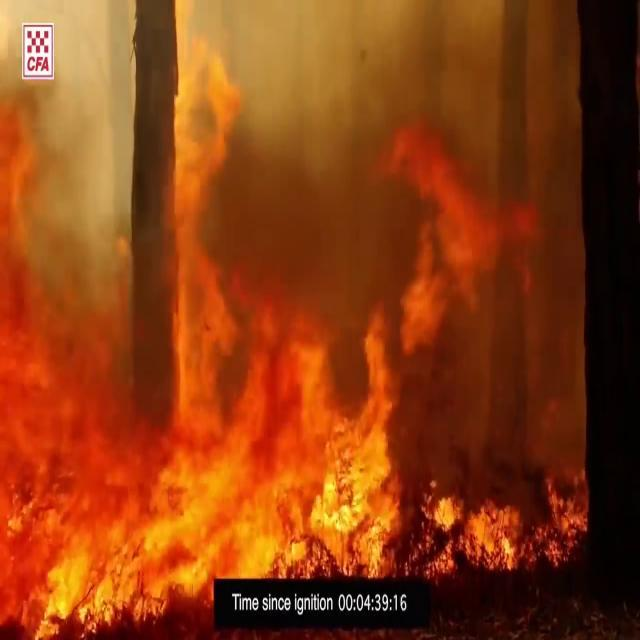Fire: (1, 274, 411, 628), (422, 475, 530, 583)
Smoke: (171, 1, 563, 328), (0, 0, 138, 345)
